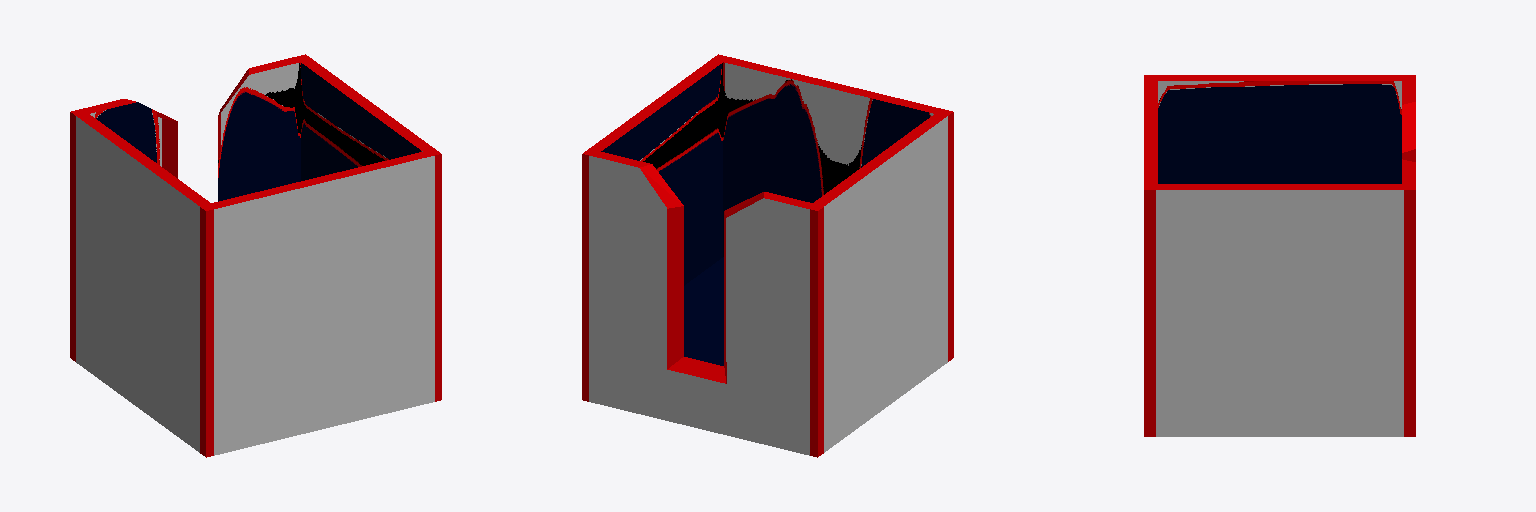
3 renders of one model, left to right at view 1: azimuth 30°, elevation 25°; view 2: azimuth 150°, elevation 25°; view 3: azimuth 270°, elevation 25°, orthographic.
Parts seen in each view (by area): view 1: Cube_Cube.001; view 2: Cube_Cube.001; view 3: Cube_Cube.001.
Part boxes in pixels (x1,y1,x2,y2): Cube_Cube.001: (70, 54, 441, 457); Cube_Cube.001: (582, 54, 953, 457); Cube_Cube.001: (1144, 75, 1415, 436).
Bounding box in the file's own units: 2 × 2 × 2.
Materials: 3 (2 with a texture image).